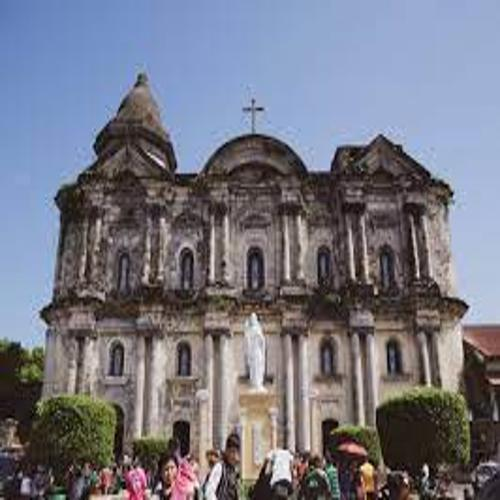Taal Basilica Church: (32, 63, 472, 459)
